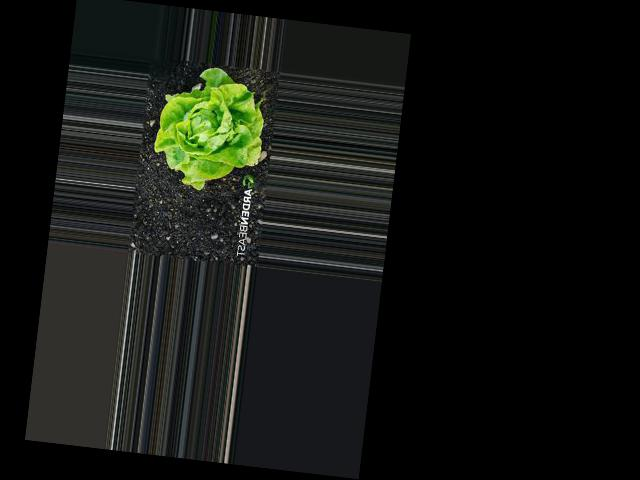lettuce: (159, 72, 261, 190)
